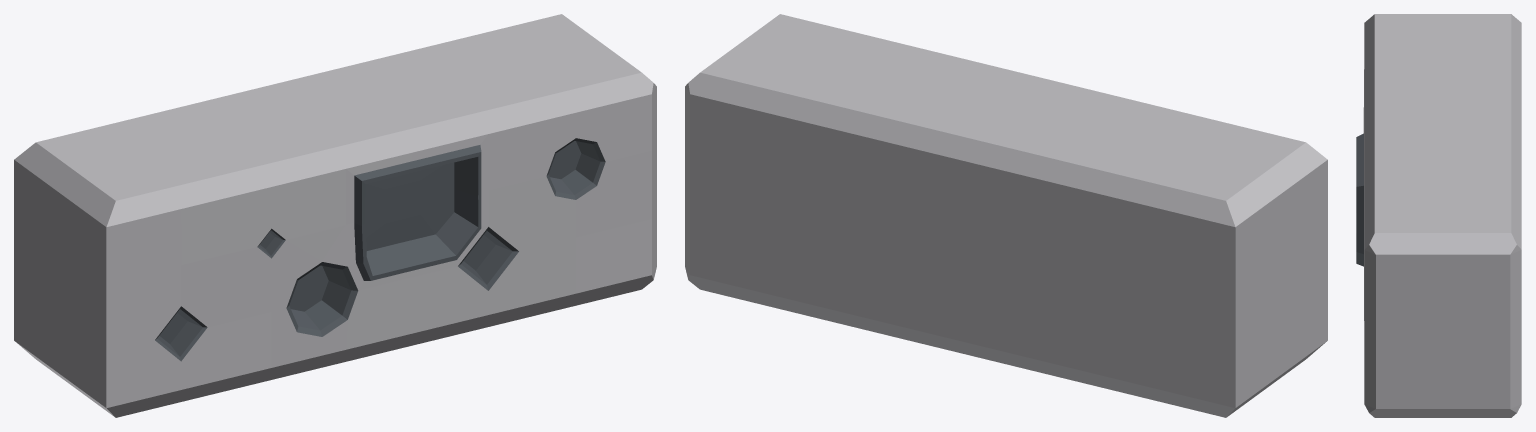
Rendered from Dropship_02_Bumper.fbx.
The picture shows the model from 3 angles, left to right: view 1: azimuth 30°, elevation 25°; view 2: azimuth 150°, elevation 25°; view 3: azimuth 270°, elevation 25°; orthographic projection. The views are drawn at different scales.
Parts seen in each view (by area): view 1: Dropship_02_Bumper; view 2: Dropship_02_Bumper; view 3: Dropship_02_Bumper.
Boxes of the visible parts, box(x1,y1,x2,y2) form: Dropship_02_Bumper: box(14, 14, 656, 417); Dropship_02_Bumper: box(685, 14, 1327, 417); Dropship_02_Bumper: box(1356, 14, 1521, 417).
Size of the model in its own units: 524 by 195 by 158.
1 material, 1 textured.
